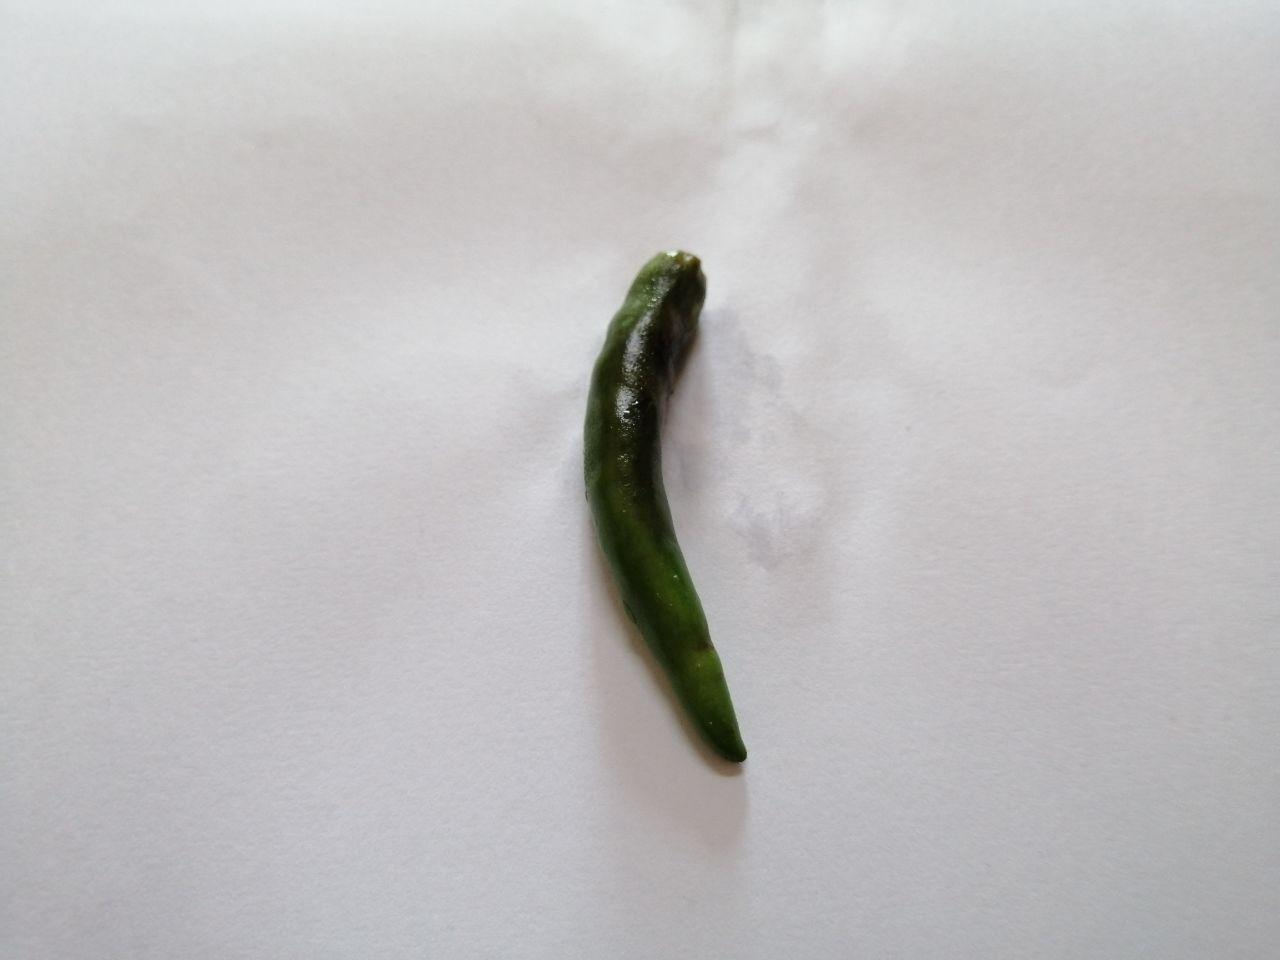lada hijau: (571, 230, 802, 787)
